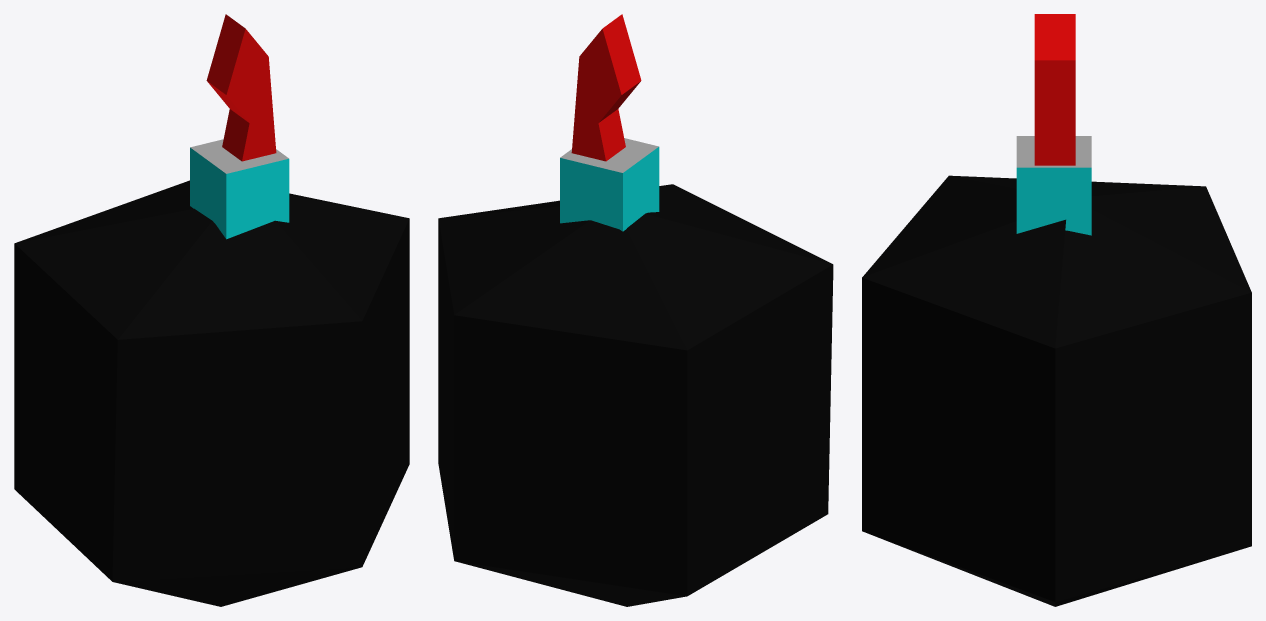
The model's file is bomb 1.fbx.
The picture shows the model from 3 angles, left to right: view 1: azimuth 30°, elevation 25°; view 2: azimuth 150°, elevation 25°; view 3: azimuth 270°, elevation 25°; orthographic projection. The views are drawn at different scales.
Parts seen in each view (by area): view 1: pCube2; view 2: pCube2; view 3: pCube2.
Part boxes in pixels (x1,y1,x2,y2): pCube2: (14,14,409,606); pCube2: (438,14,833,606); pCube2: (862,14,1251,606).
Bounding box in the file's own units: 0.3653 × 0.5917 × 0.3482.
